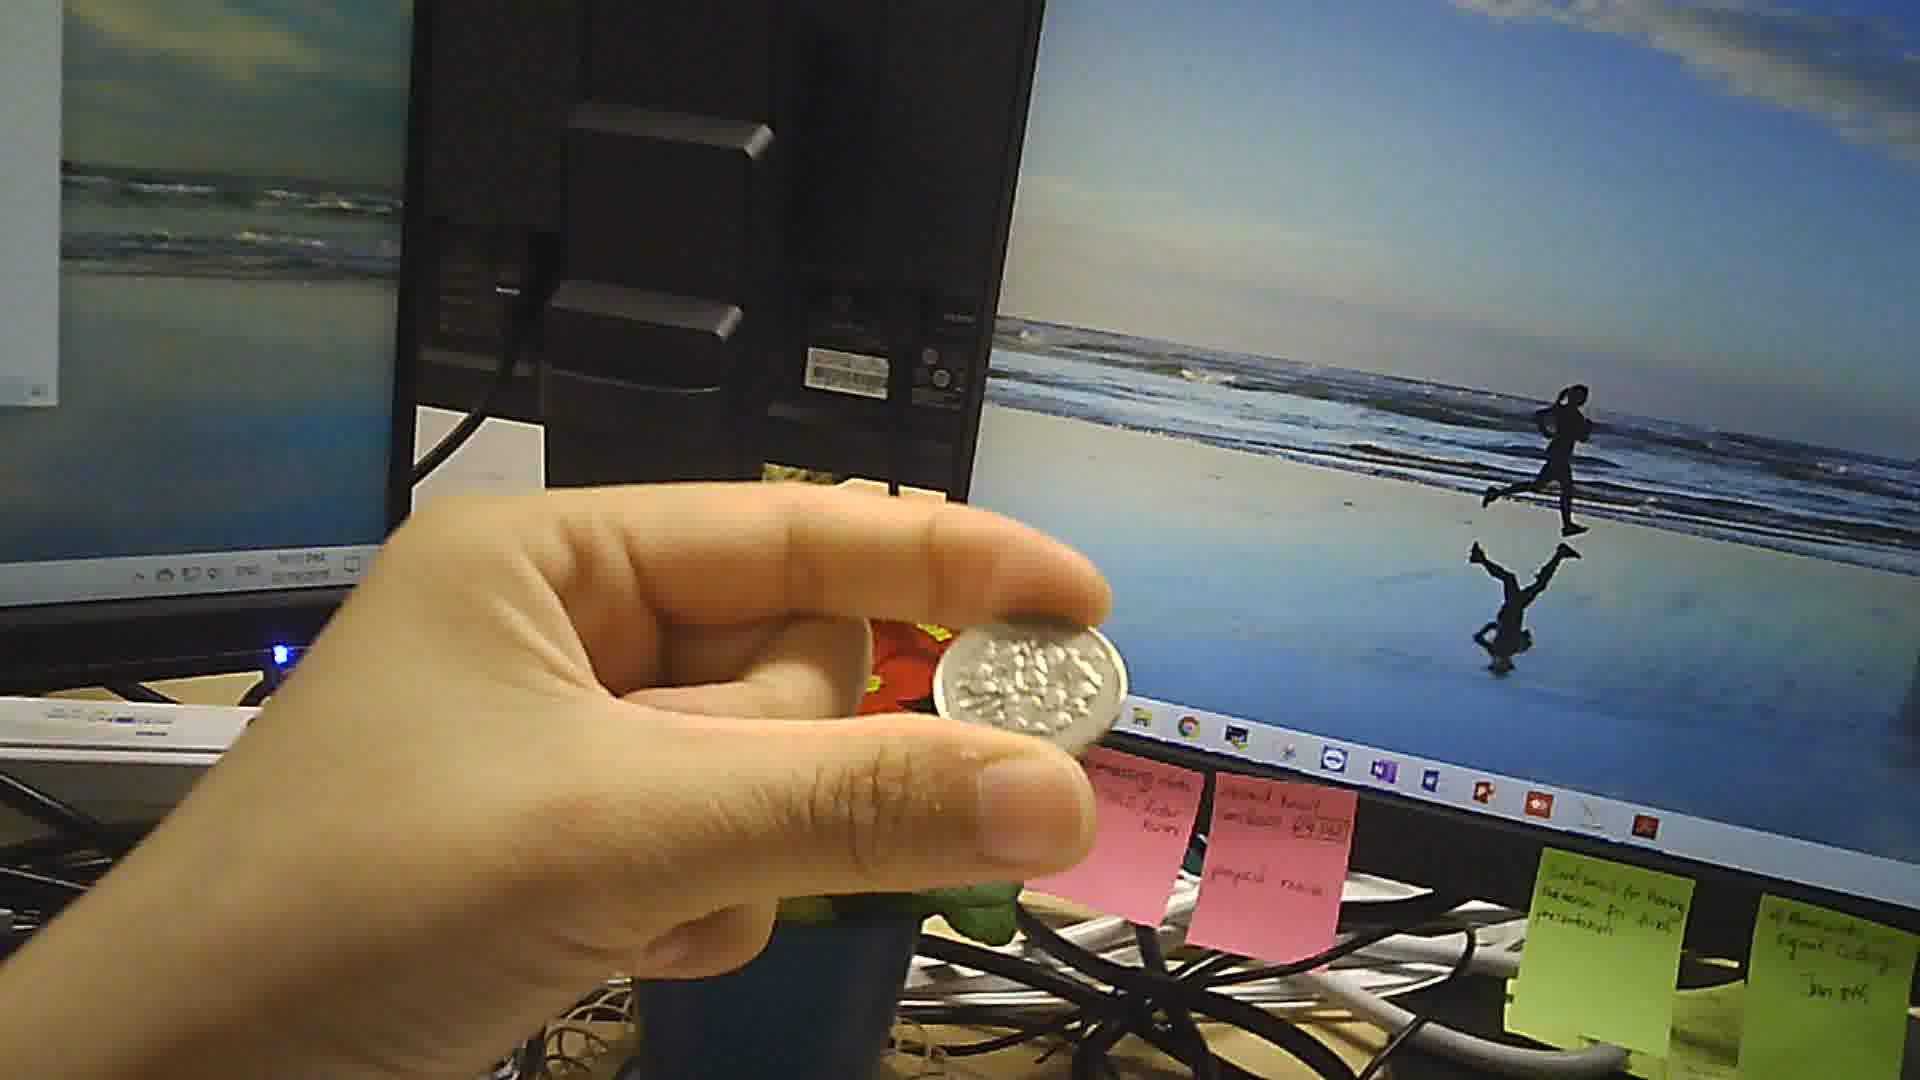100 Yen: (924, 595, 1133, 766)
